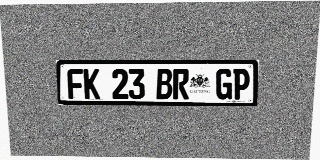2: (112, 69, 128, 99)
3: (128, 69, 145, 99)
B: (156, 69, 172, 99)
F: (67, 69, 84, 99)
G: (216, 69, 233, 99)
K: (83, 69, 100, 99)
P: (232, 69, 250, 100)
R: (173, 69, 189, 99)
